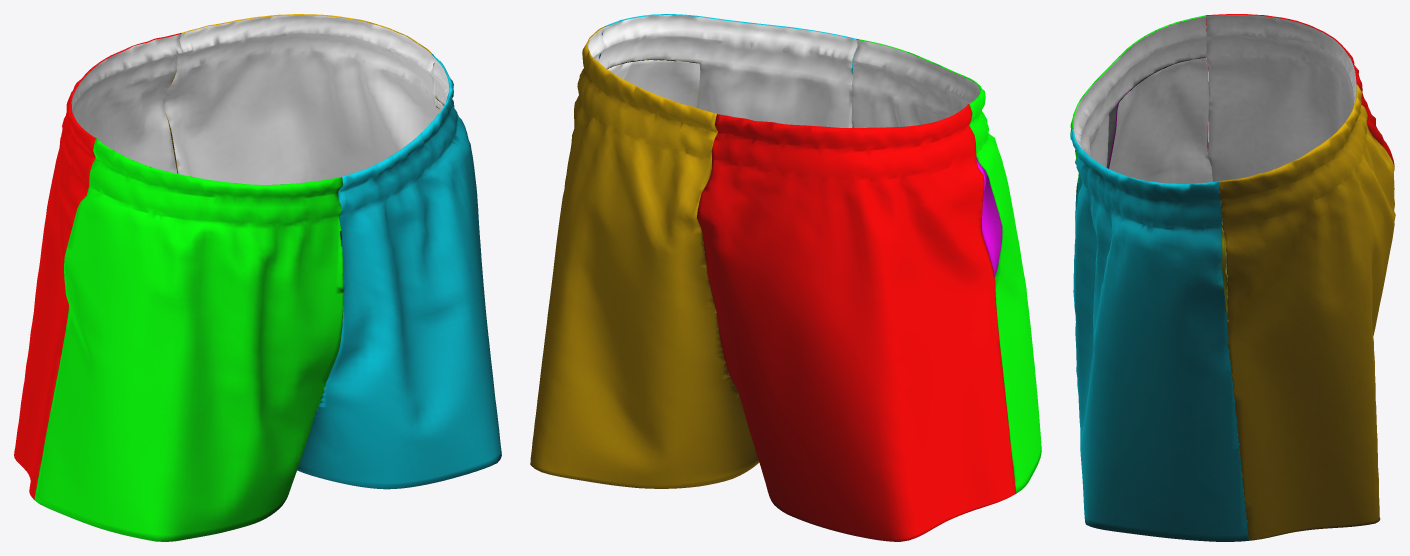
File: CottonShorts.glb
The picture shows the model from 3 angles, left to right: view 1: azimuth 30°, elevation 25°; view 2: azimuth 150°, elevation 25°; view 3: azimuth 270°, elevation 25°; orthographic projection. The views are drawn at different scales.
Parts seen in each view (by area): view 1: 10CottonShorts; view 2: 10CottonShorts; view 3: 10CottonShorts.
Part boxes in pixels (x1,y1,x2,y2): 10CottonShorts: (14,14,501,541); 10CottonShorts: (530,14,1041,541); 10CottonShorts: (1070,14,1395,541).
Bounding box in the file's own units: 0.4132 × 0.3523 × 0.2759.
Materials: 1 (1 with a texture image).
